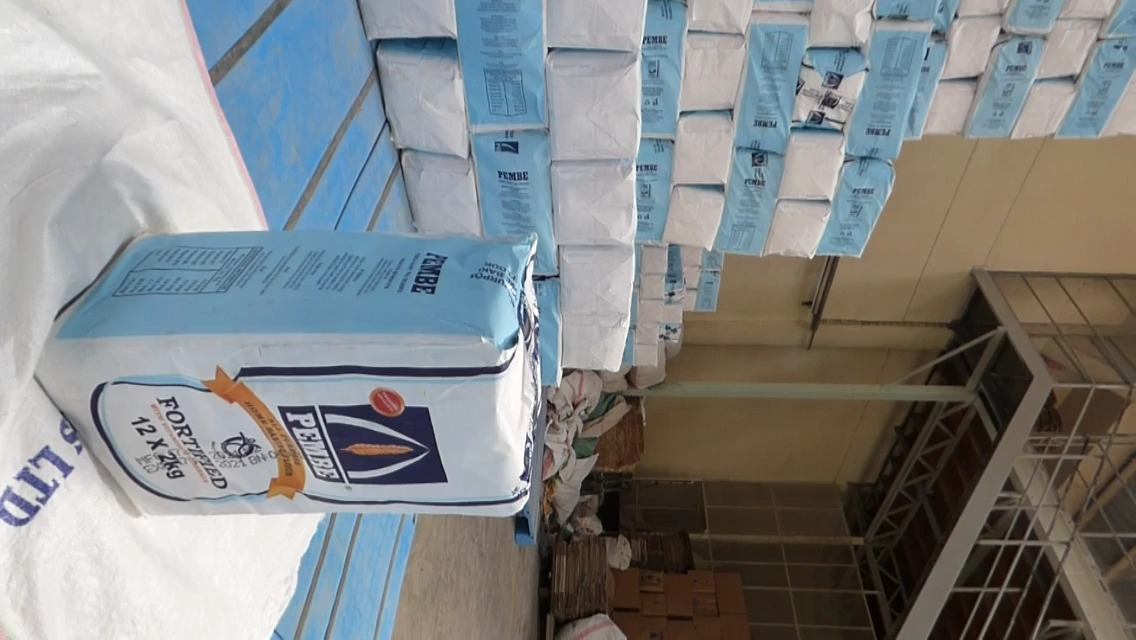wheat_flour_blue_label: (48, 232, 547, 525)
